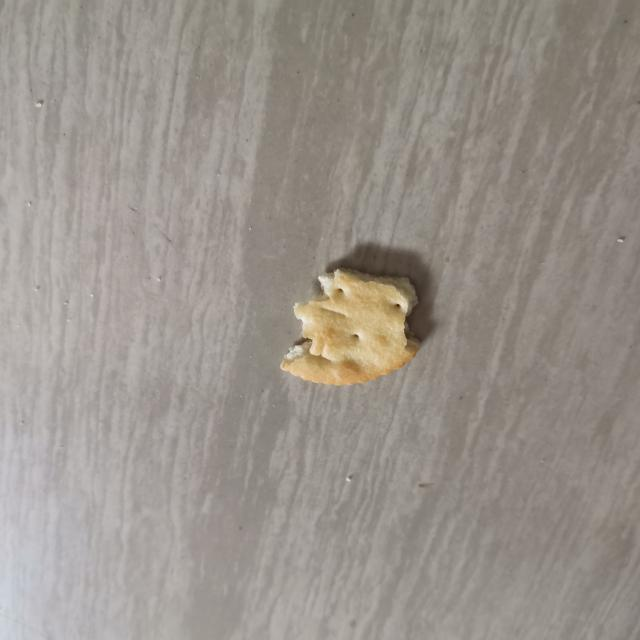Broken: (279, 266, 421, 386)
